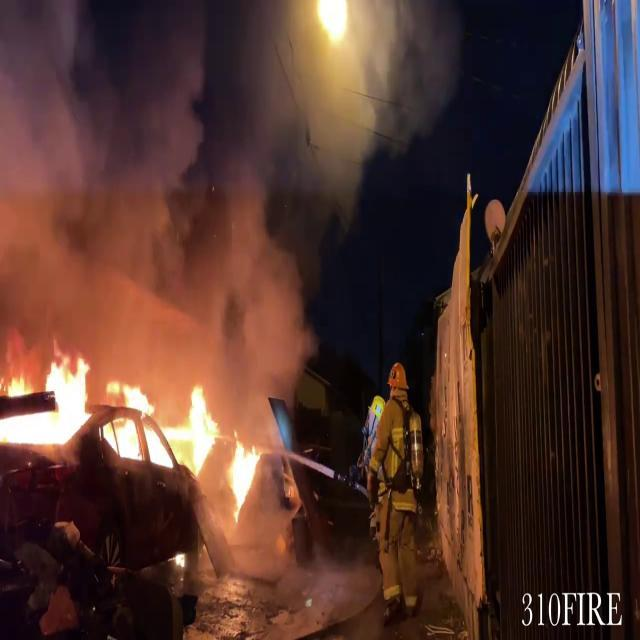Fire: (0, 348, 264, 522)
Smoke: (0, 0, 332, 366)
